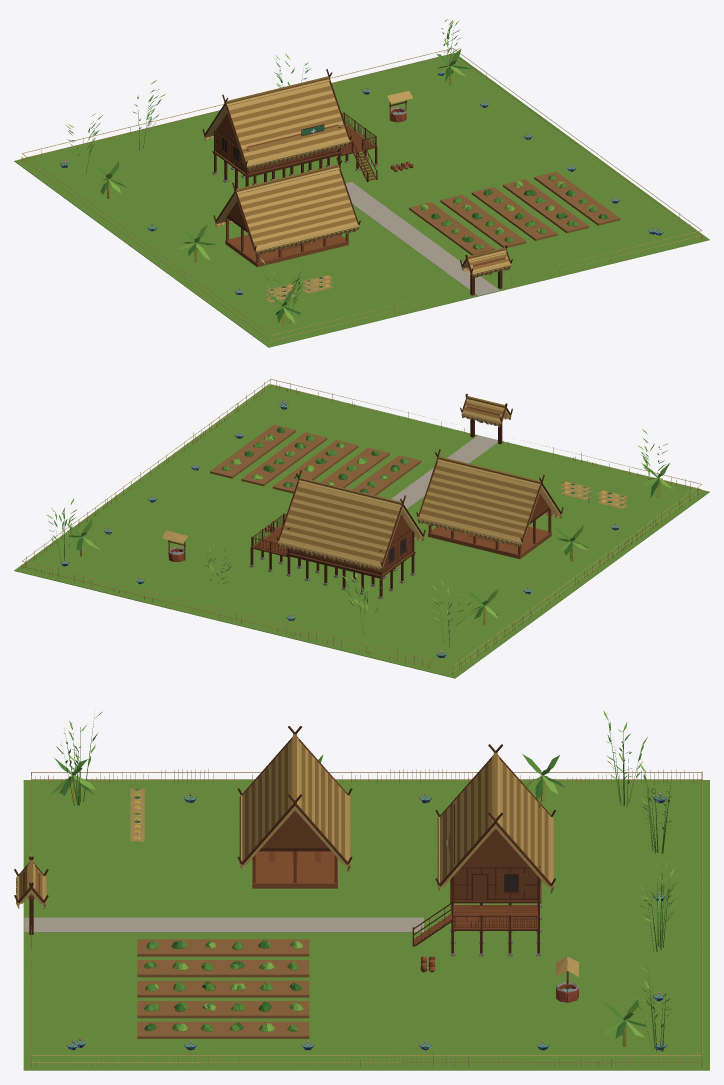
Rendered from hospital.glb.
The picture shows the model from 3 angles, top to bottom: view 1: azimuth 30°, elevation 25°; view 2: azimuth 150°, elevation 25°; view 3: azimuth 270°, elevation 25°; orthographic projection. The views are drawn at different scales.
Parts seen in each view (by area): view 1: body; view 2: body; view 3: body.
Boxes of the visible parts, <box> form: body: <box>14,19,709,347</box>; body: <box>14,379,709,678</box>; body: <box>14,710,709,1070</box>.
Size of the model in its own units: 47.9 by 9.56 by 48.56.
